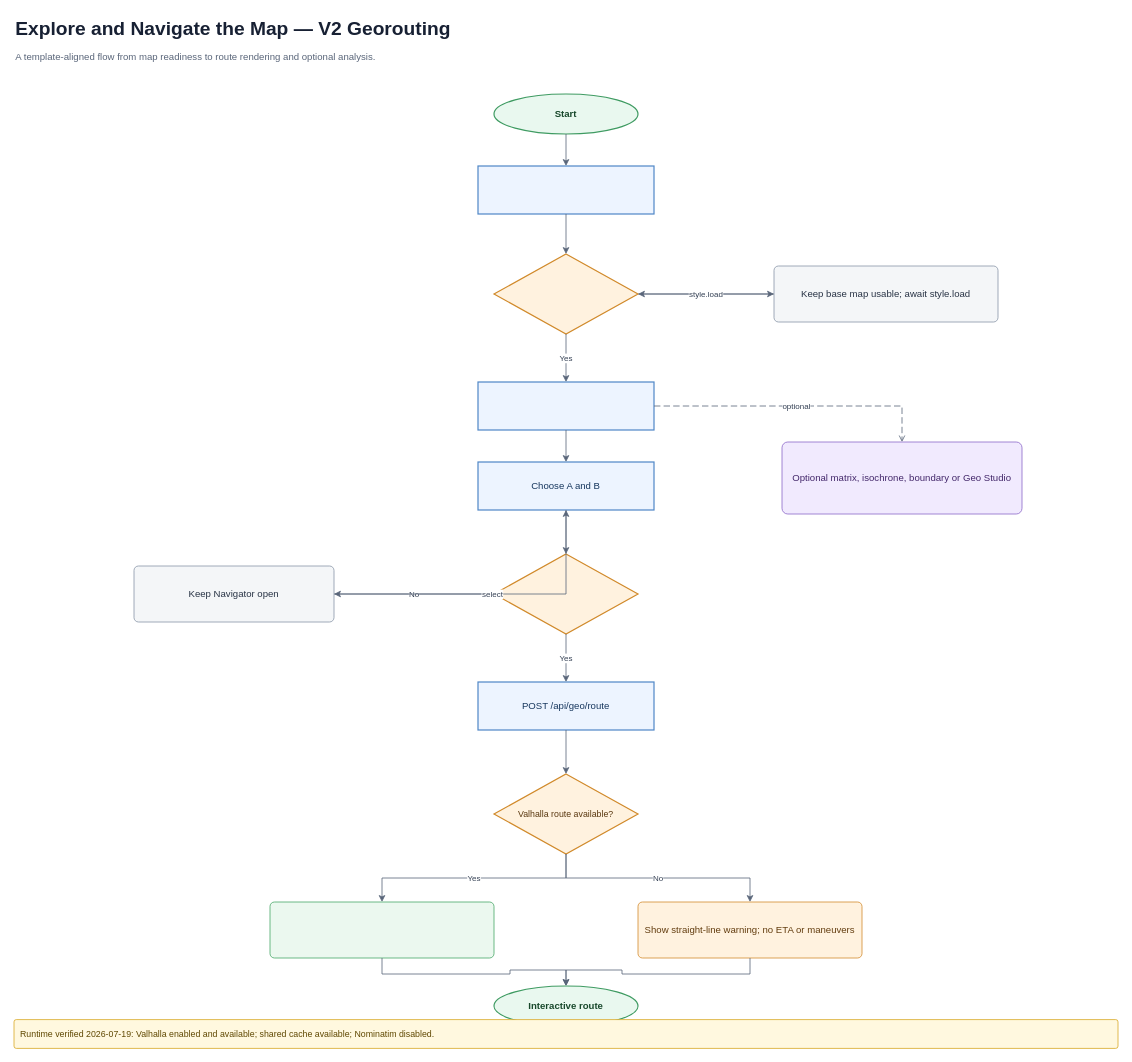
The diagram is 1132 pixels wide and 1062 high, and some of its shapes have lost their labels. The box of each missing label's shape, as (x1, y1, x2, y2) in pixels:
Both endpoints available?: (493, 553, 638, 634)
MapLibre style ready?: (493, 253, 638, 334)
Mount Map Tools and A–B Navigator: (477, 381, 654, 430)
Open Malaysia map workspace: (477, 165, 654, 214)
Render route, ETA, alternatives and maneuvers: (269, 901, 494, 958)
